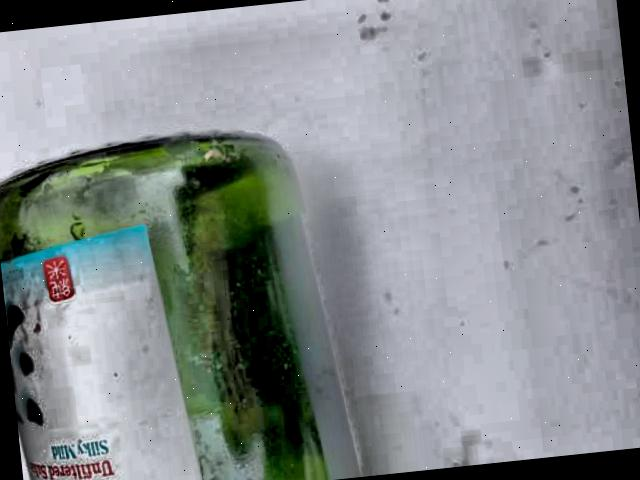Bottles: (0, 103, 395, 480)
